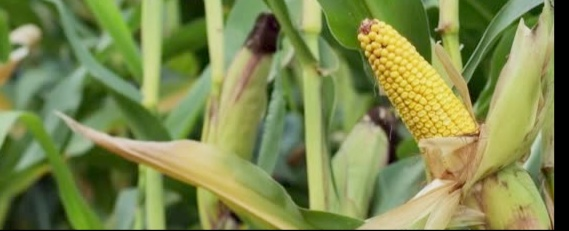corn: (352, 18, 495, 186)
corn_plant: (183, 3, 292, 228)
